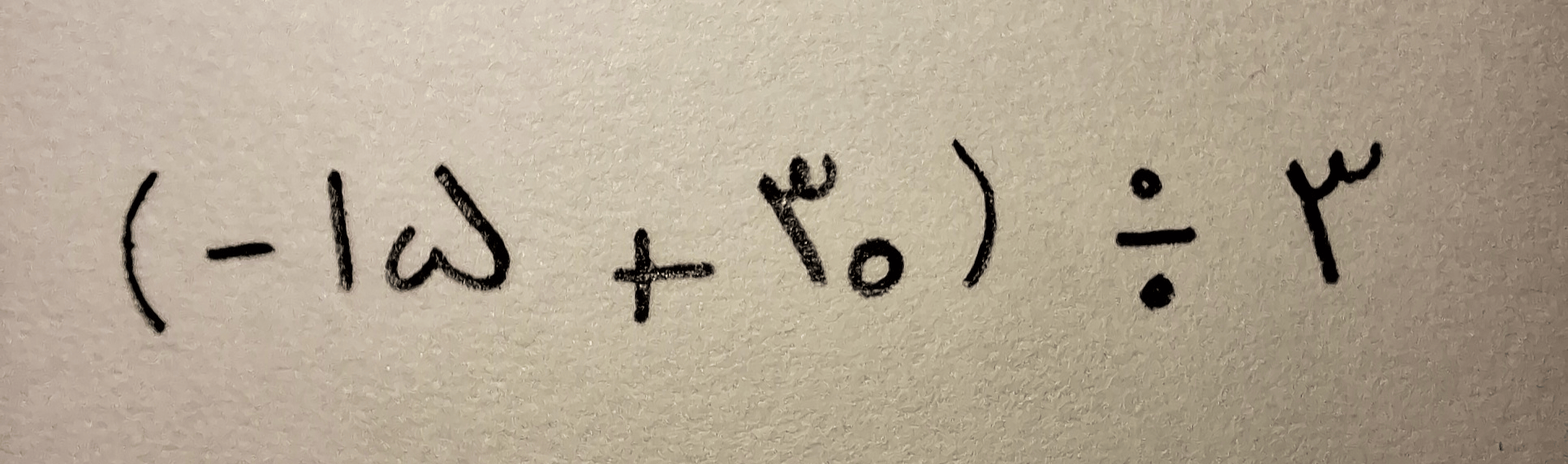character: (388, 164, 510, 293), (1287, 140, 1383, 282), (1116, 167, 1196, 314), (759, 154, 836, 285), (615, 226, 713, 325), (121, 167, 167, 336), (952, 135, 995, 289), (327, 169, 356, 290), (849, 237, 903, 295), (207, 243, 276, 262)
